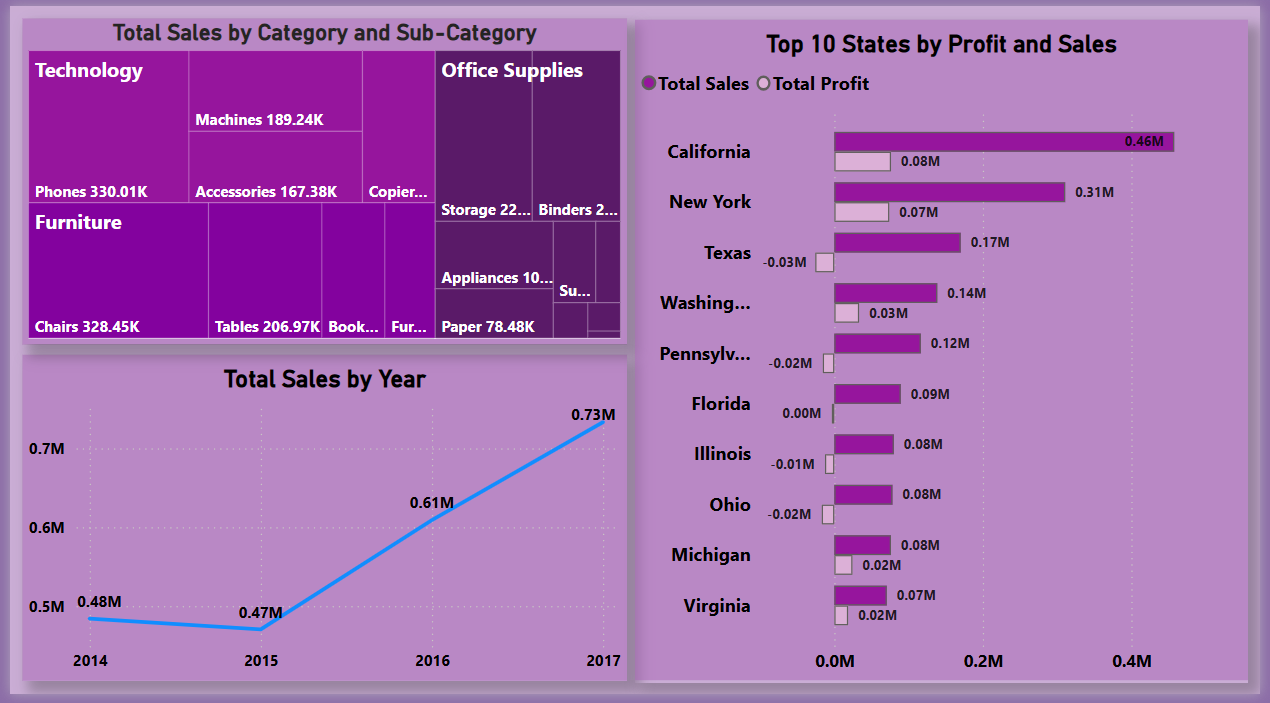

This screenshot's page, from the dashboard's own definition file:
{"tool":"powerbi","page":{"name":"sales & profit","canvas":[1000,550],"ordinal":1},"visuals":[{"type":"shape","box":[10,278.8,483.8,261.2],"z":0},{"type":"shape","box":[10,10,483.8,261.2],"z":1000},{"type":"treemap","fields":{"Group":["Sample - Superstore.Category"],"Details":["Sample - Superstore.Sub-Category"],"Values":["Sample - Superstore.Total Sales"]},"box":[10,10,483.8,261.2],"z":2000},{"type":"lineChart","fields":{"Category":["Calendar.Year"],"Y":["Sample - Superstore.Total Sales"]},"box":[10,278.8,483.8,261.2],"z":3000},{"type":"shape","box":[500,11.2,491.2,528.8],"z":4000},{"type":"clusteredBarChart","title":"Top 10 States by Profit and Sales","fields":{"Category":["Sample - Superstore.State"],"Y":["Sample - Superstore.Total Sales","Sample - Superstore.Total Profit"]},"box":[500,11.2,491.2,530],"z":5000}]}

Visuals, with their boxes in screenshot pixels (x1, y1, x2, y2), scaled from the page's 1000x550 canvas onto the 1270x703 screenshot:
shape: Rect(13, 356, 627, 690)
shape: Rect(13, 13, 627, 347)
treemap - Sample - Superstore.Category x Sample - Superstore.Sub-Category: Rect(13, 13, 627, 347)
lineChart - Calendar.Year x Sample - Superstore.Total Sales: Rect(13, 356, 627, 690)
shape: Rect(635, 14, 1259, 690)
"Top 10 States by Profit and Sales" clusteredBarChart: Rect(635, 14, 1259, 692)
